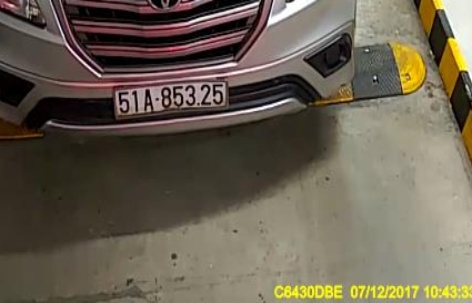plate: (100, 70, 238, 122)
